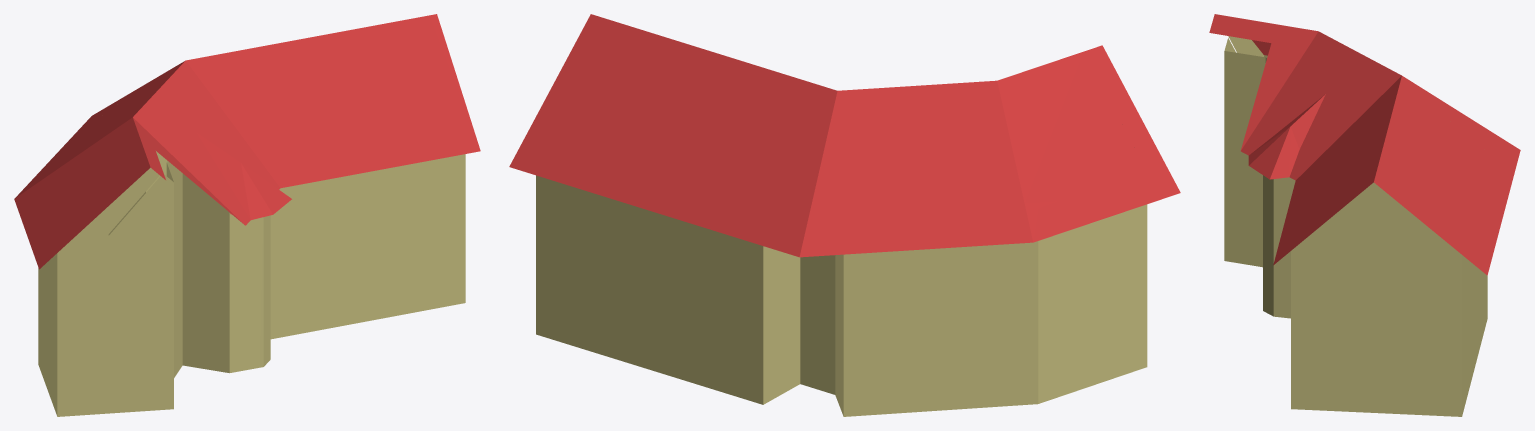
3 renders of one model, left to right at view 1: azimuth 30°, elevation 25°; view 2: azimuth 150°, elevation 25°; view 3: azimuth 270°, elevation 25°, orthographic. The views are drawn at different scales.
Bounding box in the file's own units: 28.93 × 17.73 × 14.7.
